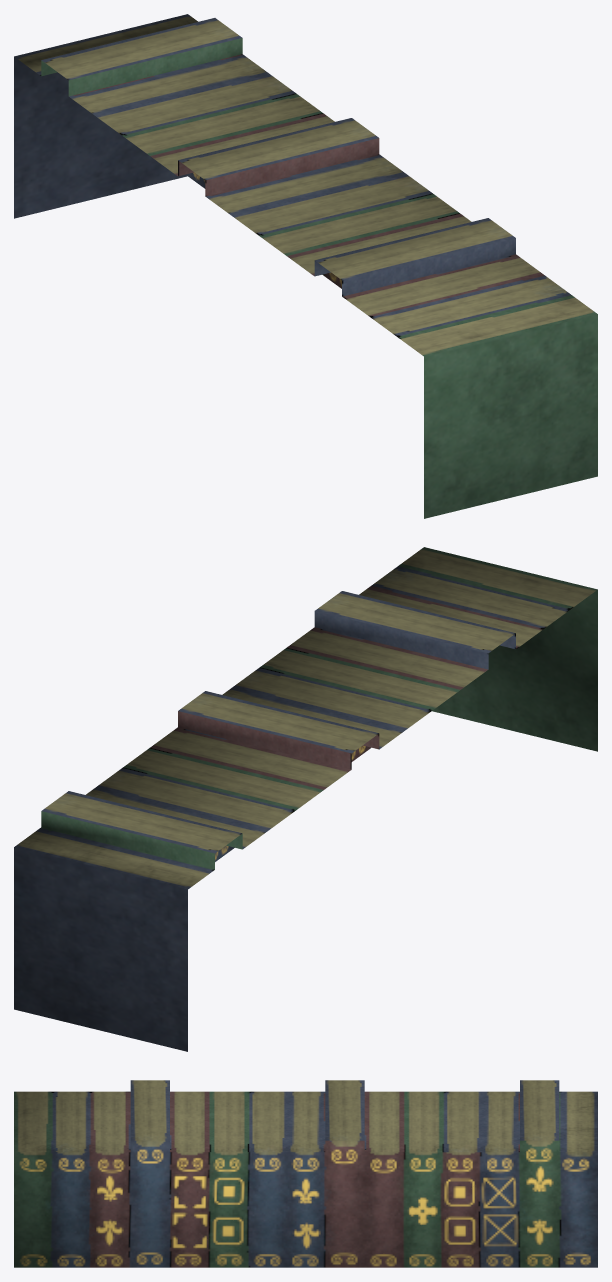
Rendered from BookClusterLarge_01.fbx.
3 renders of one model, top to bottom at view 1: azimuth 30°, elevation 25°; view 2: azimuth 150°, elevation 25°; view 3: azimuth 270°, elevation 25°, orthographic. The views are drawn at different scales.
Visible parts, largest first — view 1: BookClusterLarge_01; view 2: BookClusterLarge_01; view 3: BookClusterLarge_01.
Boxes of the visible parts, x1,y1,x2,y2 form: BookClusterLarge_01: [14, 14, 597, 518]; BookClusterLarge_01: [14, 547, 597, 1051]; BookClusterLarge_01: [14, 1080, 597, 1267].
Size of the model in its own units: 24.87 by 24.4 by 102.
